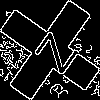Z: (25, 25, 80, 76)
